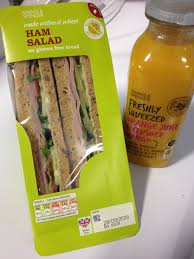sandwich: (1, 1, 152, 259)
